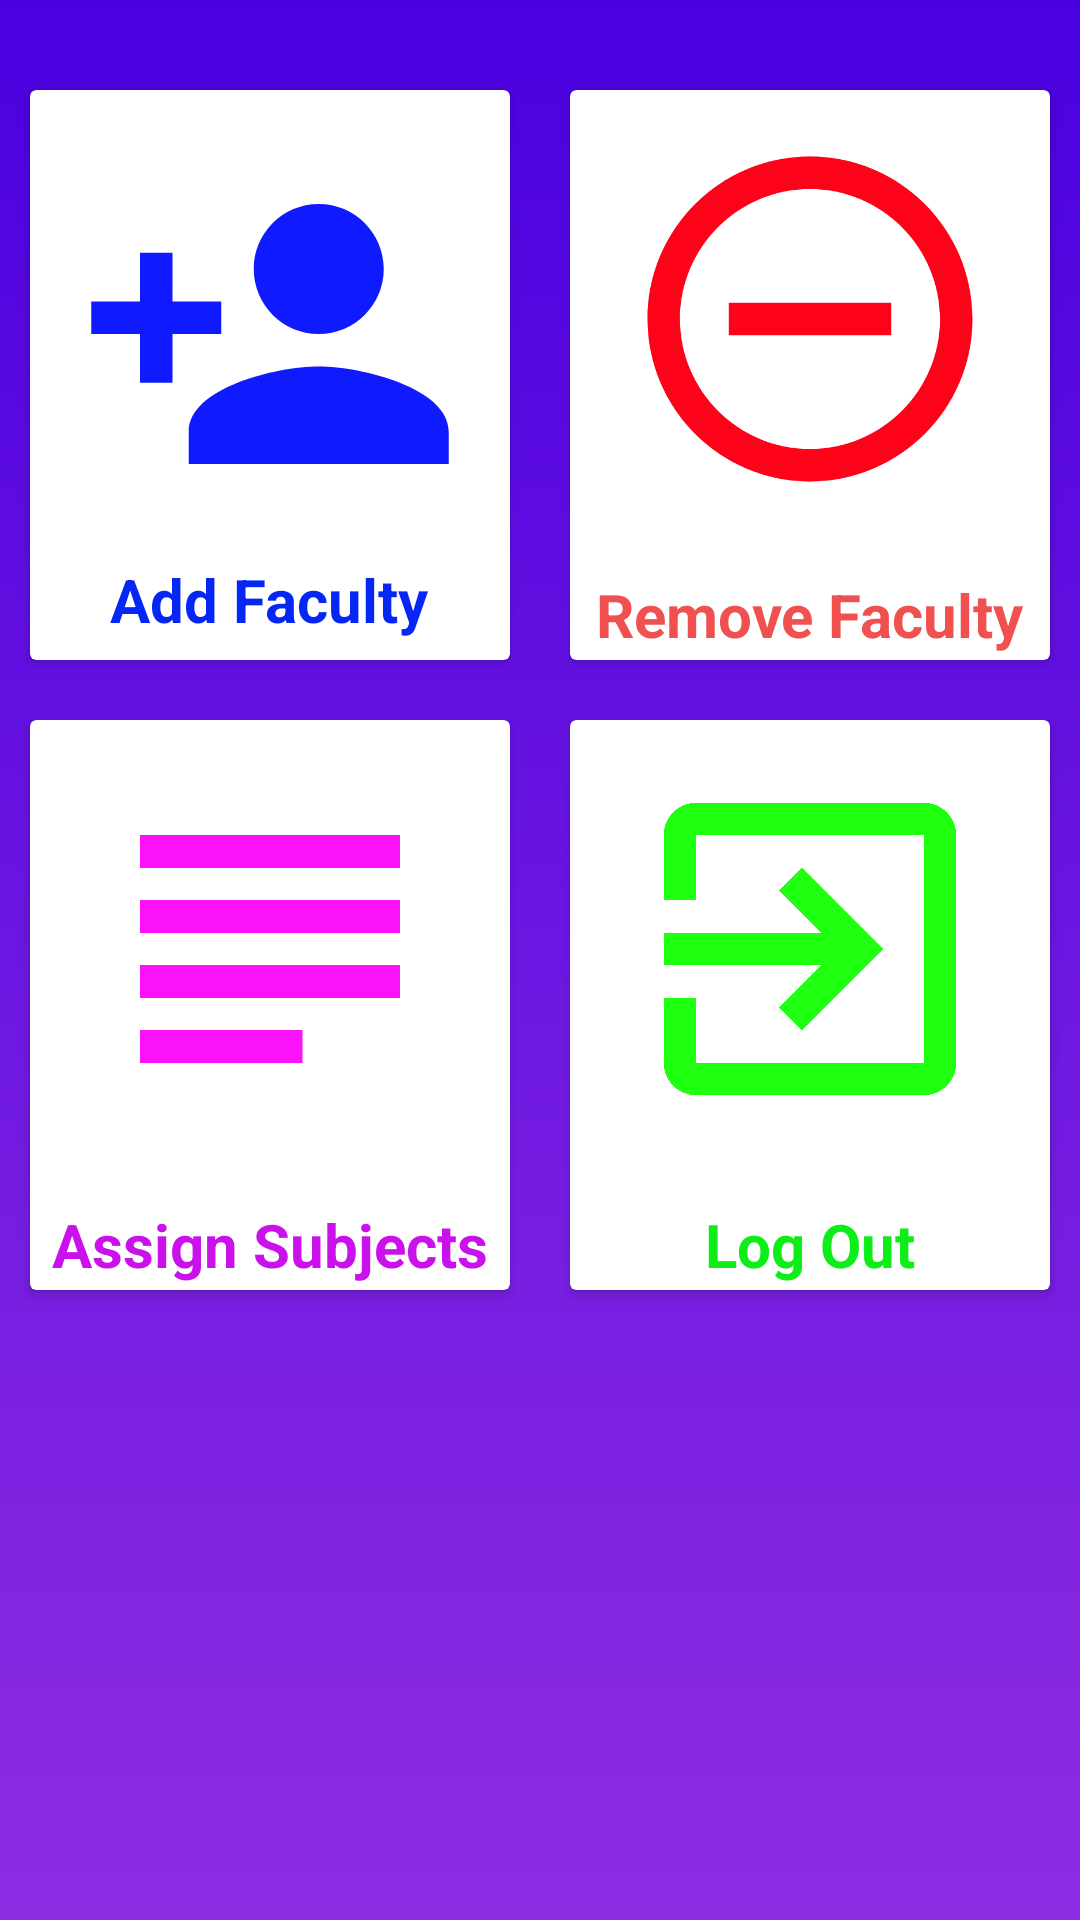

Named icons in this screenshot (1080 × 1920) and their centers, (x=x, y=y):
addperson: (x=270, y=334)
exit: (x=810, y=949)
